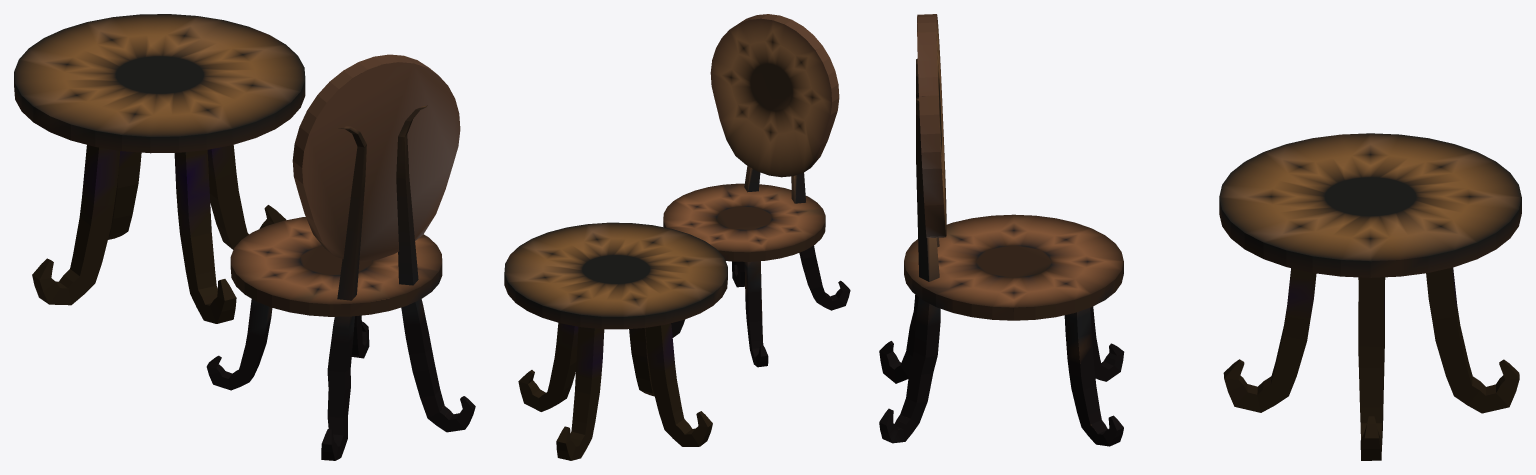
File: table and chair for podium.fbx
3 renders of one model, left to right at view 1: azimuth 30°, elevation 25°; view 2: azimuth 150°, elevation 25°; view 3: azimuth 270°, elevation 25°, orthographic. The views are drawn at different scales.
Visible parts, largest first — view 1: Circle, table; view 2: table, Circle; view 3: table, Circle.
Boxes of the visible parts, x1,y1,x2,y2 form: Circle: (206, 54, 475, 460); table: (14, 14, 305, 323); table: (504, 222, 727, 460); Circle: (663, 14, 850, 367); table: (1219, 133, 1521, 460); Circle: (879, 14, 1124, 446).
Size of the model in its own units: 251 by 356 by 532.
